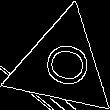O_W: (33, 39, 91, 92)
